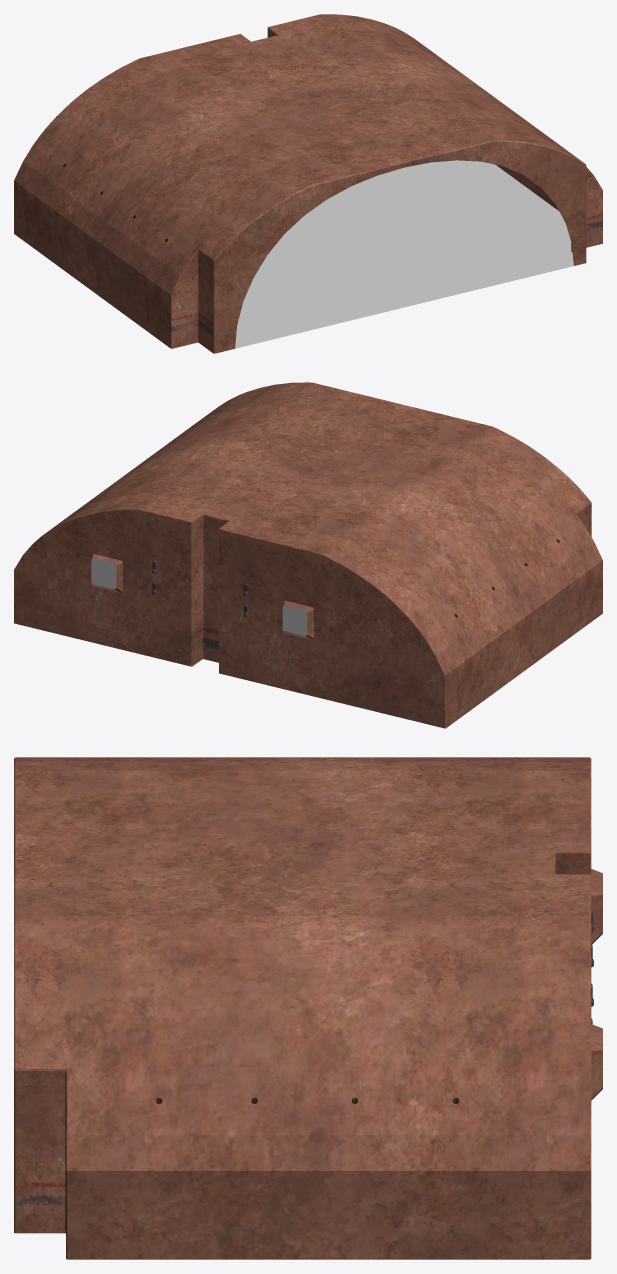
File: thm_nboo_cantina_r4_alcove1_mesh_r4.fbx
3 renders of one model, top to bottom at view 1: azimuth 30°, elevation 25°; view 2: azimuth 150°, elevation 25°; view 3: azimuth 270°, elevation 25°, orthographic. The views are drawn at different scales.
Parts seen in each view (by area): view 1: mesh_node; view 2: mesh_node; view 3: mesh_node.
Part boxes in pixels (x1,y1,x2,y2): mesh_node: (14, 14, 602, 353); mesh_node: (14, 382, 602, 728); mesh_node: (14, 757, 602, 1259).
Size of the model in its own units: 12.97 by 4.15 by 9.2.
